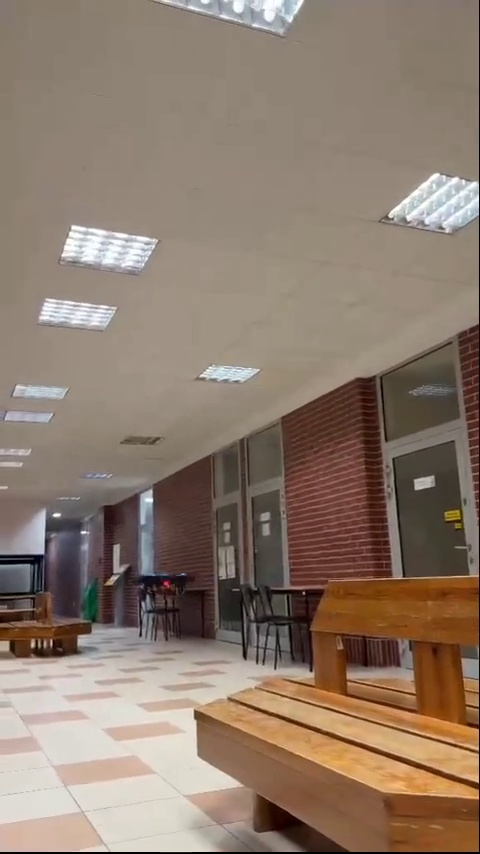drone: (129, 572, 196, 592)
